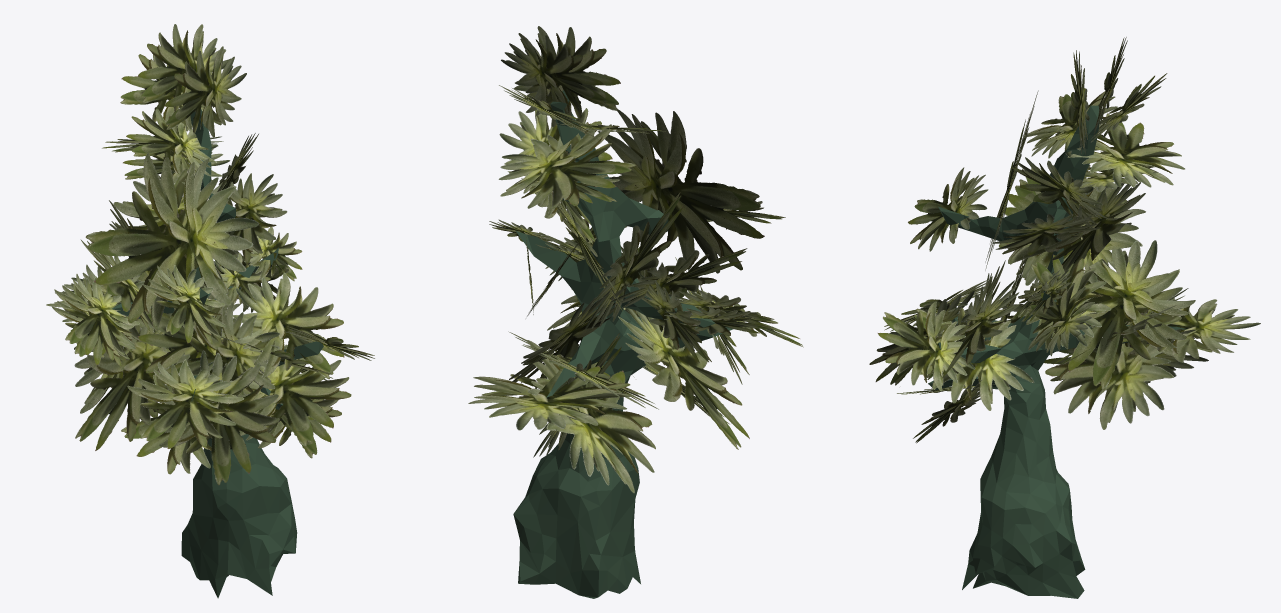
File: plant.fbx
The picture shows the model from 3 angles, left to right: view 1: azimuth 30°, elevation 25°; view 2: azimuth 150°, elevation 25°; view 3: azimuth 270°, elevation 25°; orthographic projection. The views are drawn at different scales.
Parts seen in each view (by area): view 1: Plane.036, Cube; view 2: Plane.036, Cube, Plane; view 3: Plane.036, Cube, Plane.
Part boxes in pixels (box(x1,y1,x2,y2)): Plane.036: box(51, 24, 374, 485); Cube: box(112, 109, 323, 598); Plane.036: box(489, 26, 803, 493); Cube: box(513, 90, 734, 598); Plane: box(468, 359, 632, 430); Plane.036: box(869, 37, 1208, 443); Cube: box(928, 105, 1186, 598); Plane: box(1122, 298, 1260, 362).
Size of the model in its own units: 434 by 747 by 517.
